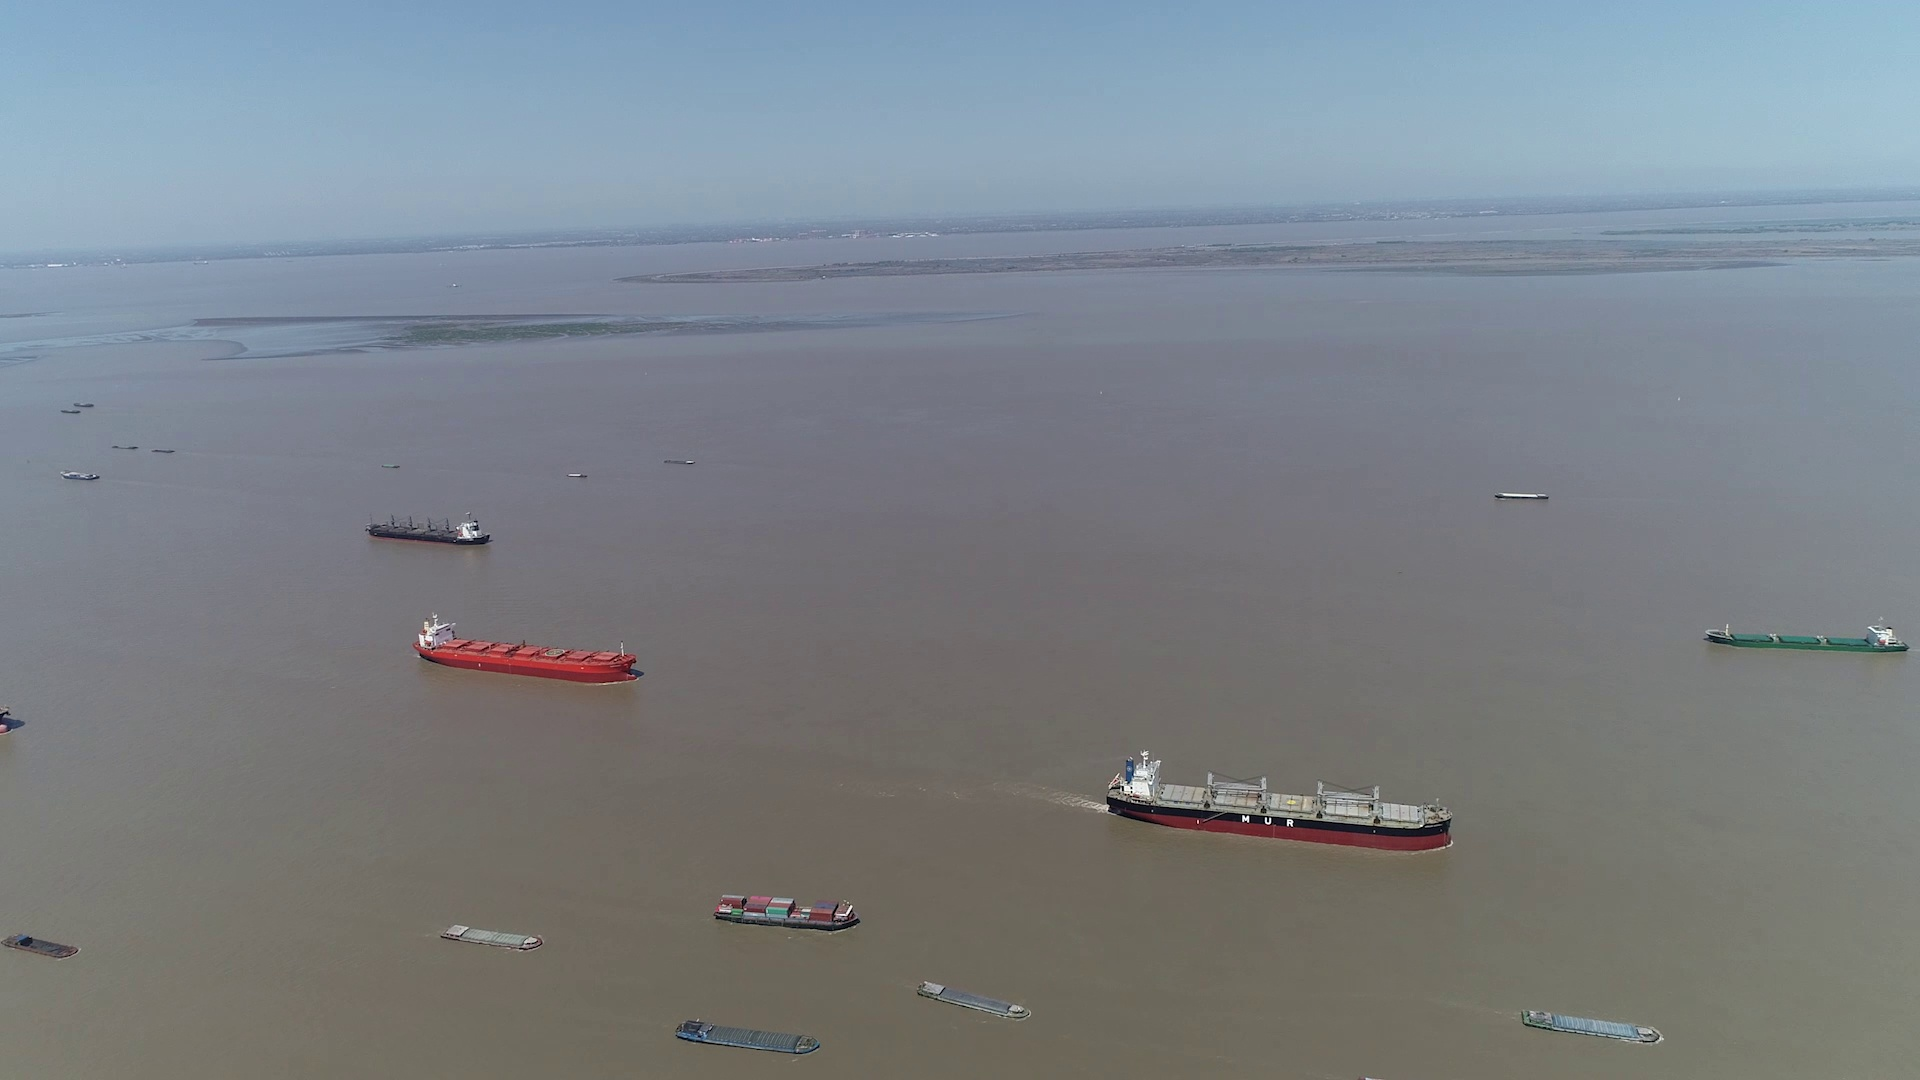ship: (1106, 752, 1453, 851), (411, 613, 638, 682), (1706, 622, 1909, 653), (713, 894, 860, 931), (1520, 1010, 1663, 1046), (679, 1021, 820, 1056), (919, 980, 1033, 1022), (365, 512, 491, 546), (440, 923, 545, 952), (7, 931, 76, 957), (1491, 491, 1545, 501), (59, 468, 100, 480), (566, 472, 585, 479)
